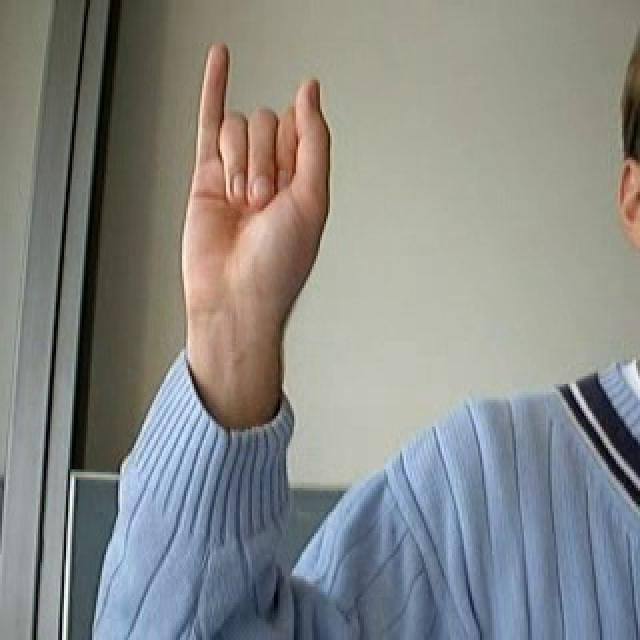I: (124, 27, 365, 381)
